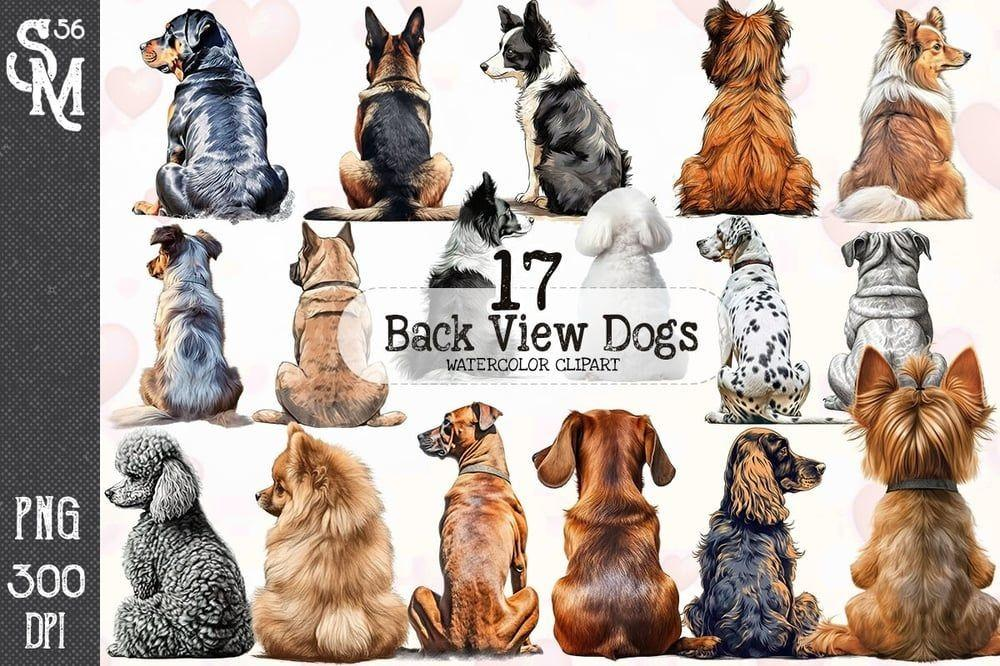adult_dog: (801, 345, 1000, 664), (251, 421, 410, 663), (532, 407, 682, 661), (671, 426, 827, 662), (129, 4, 293, 224), (105, 426, 256, 661), (406, 401, 543, 657), (305, 4, 464, 222), (477, 2, 634, 216), (696, 214, 850, 426), (828, 4, 974, 224), (674, 1, 819, 220), (255, 224, 409, 429), (115, 223, 255, 429), (402, 171, 536, 383), (821, 227, 948, 414), (569, 186, 690, 382)
